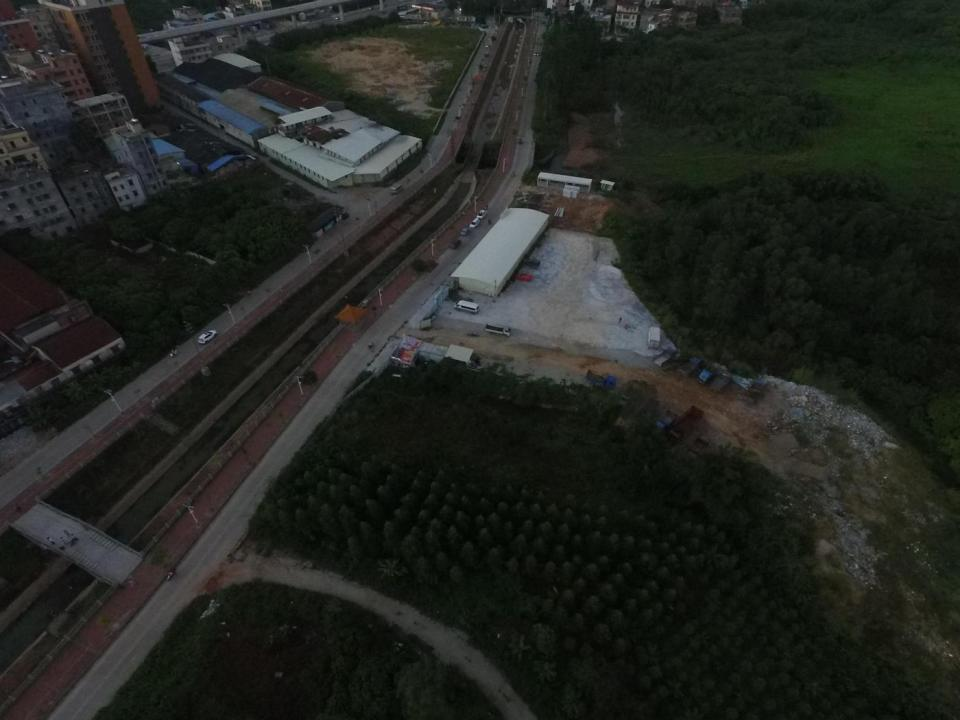car: (197, 330, 218, 344), (523, 256, 542, 270), (515, 273, 533, 282), (470, 217, 480, 230), (451, 238, 460, 250), (460, 227, 471, 236), (477, 210, 486, 220), (532, 51, 539, 57)
truck: (664, 404, 704, 445), (679, 437, 708, 464), (585, 368, 617, 391), (743, 379, 767, 406), (710, 369, 734, 394), (676, 356, 702, 378), (656, 409, 678, 434), (652, 347, 678, 367), (699, 361, 719, 386), (484, 322, 513, 337), (647, 326, 661, 349)
van: (454, 300, 480, 314), (389, 183, 404, 193)
